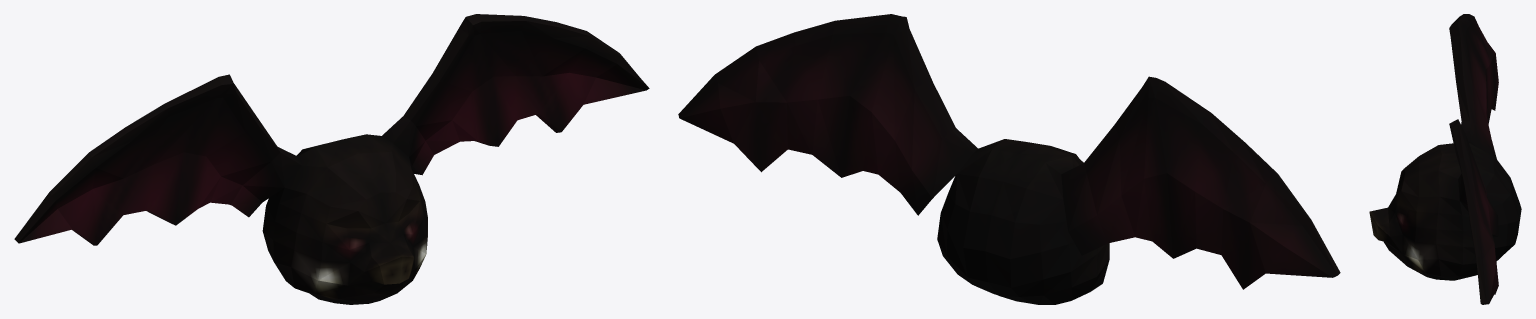
The model's file is bat.glb.
3 renders of one model, left to right at view 1: azimuth 30°, elevation 25°; view 2: azimuth 150°, elevation 25°; view 3: azimuth 270°, elevation 25°, orthographic. The views are drawn at different scales.
Visible parts, largest first — view 1: pose_0; view 2: pose_0; view 3: pose_0.
Part boxes in pixels (bbox=[...]): pose_0: bbox=[14, 14, 649, 304]; pose_0: bbox=[678, 14, 1340, 304]; pose_0: bbox=[1369, 14, 1521, 304].
Size of the model in its own units: 2.68 by 0.9999 by 0.6857.
Materials: 1 (1 with a texture image).
